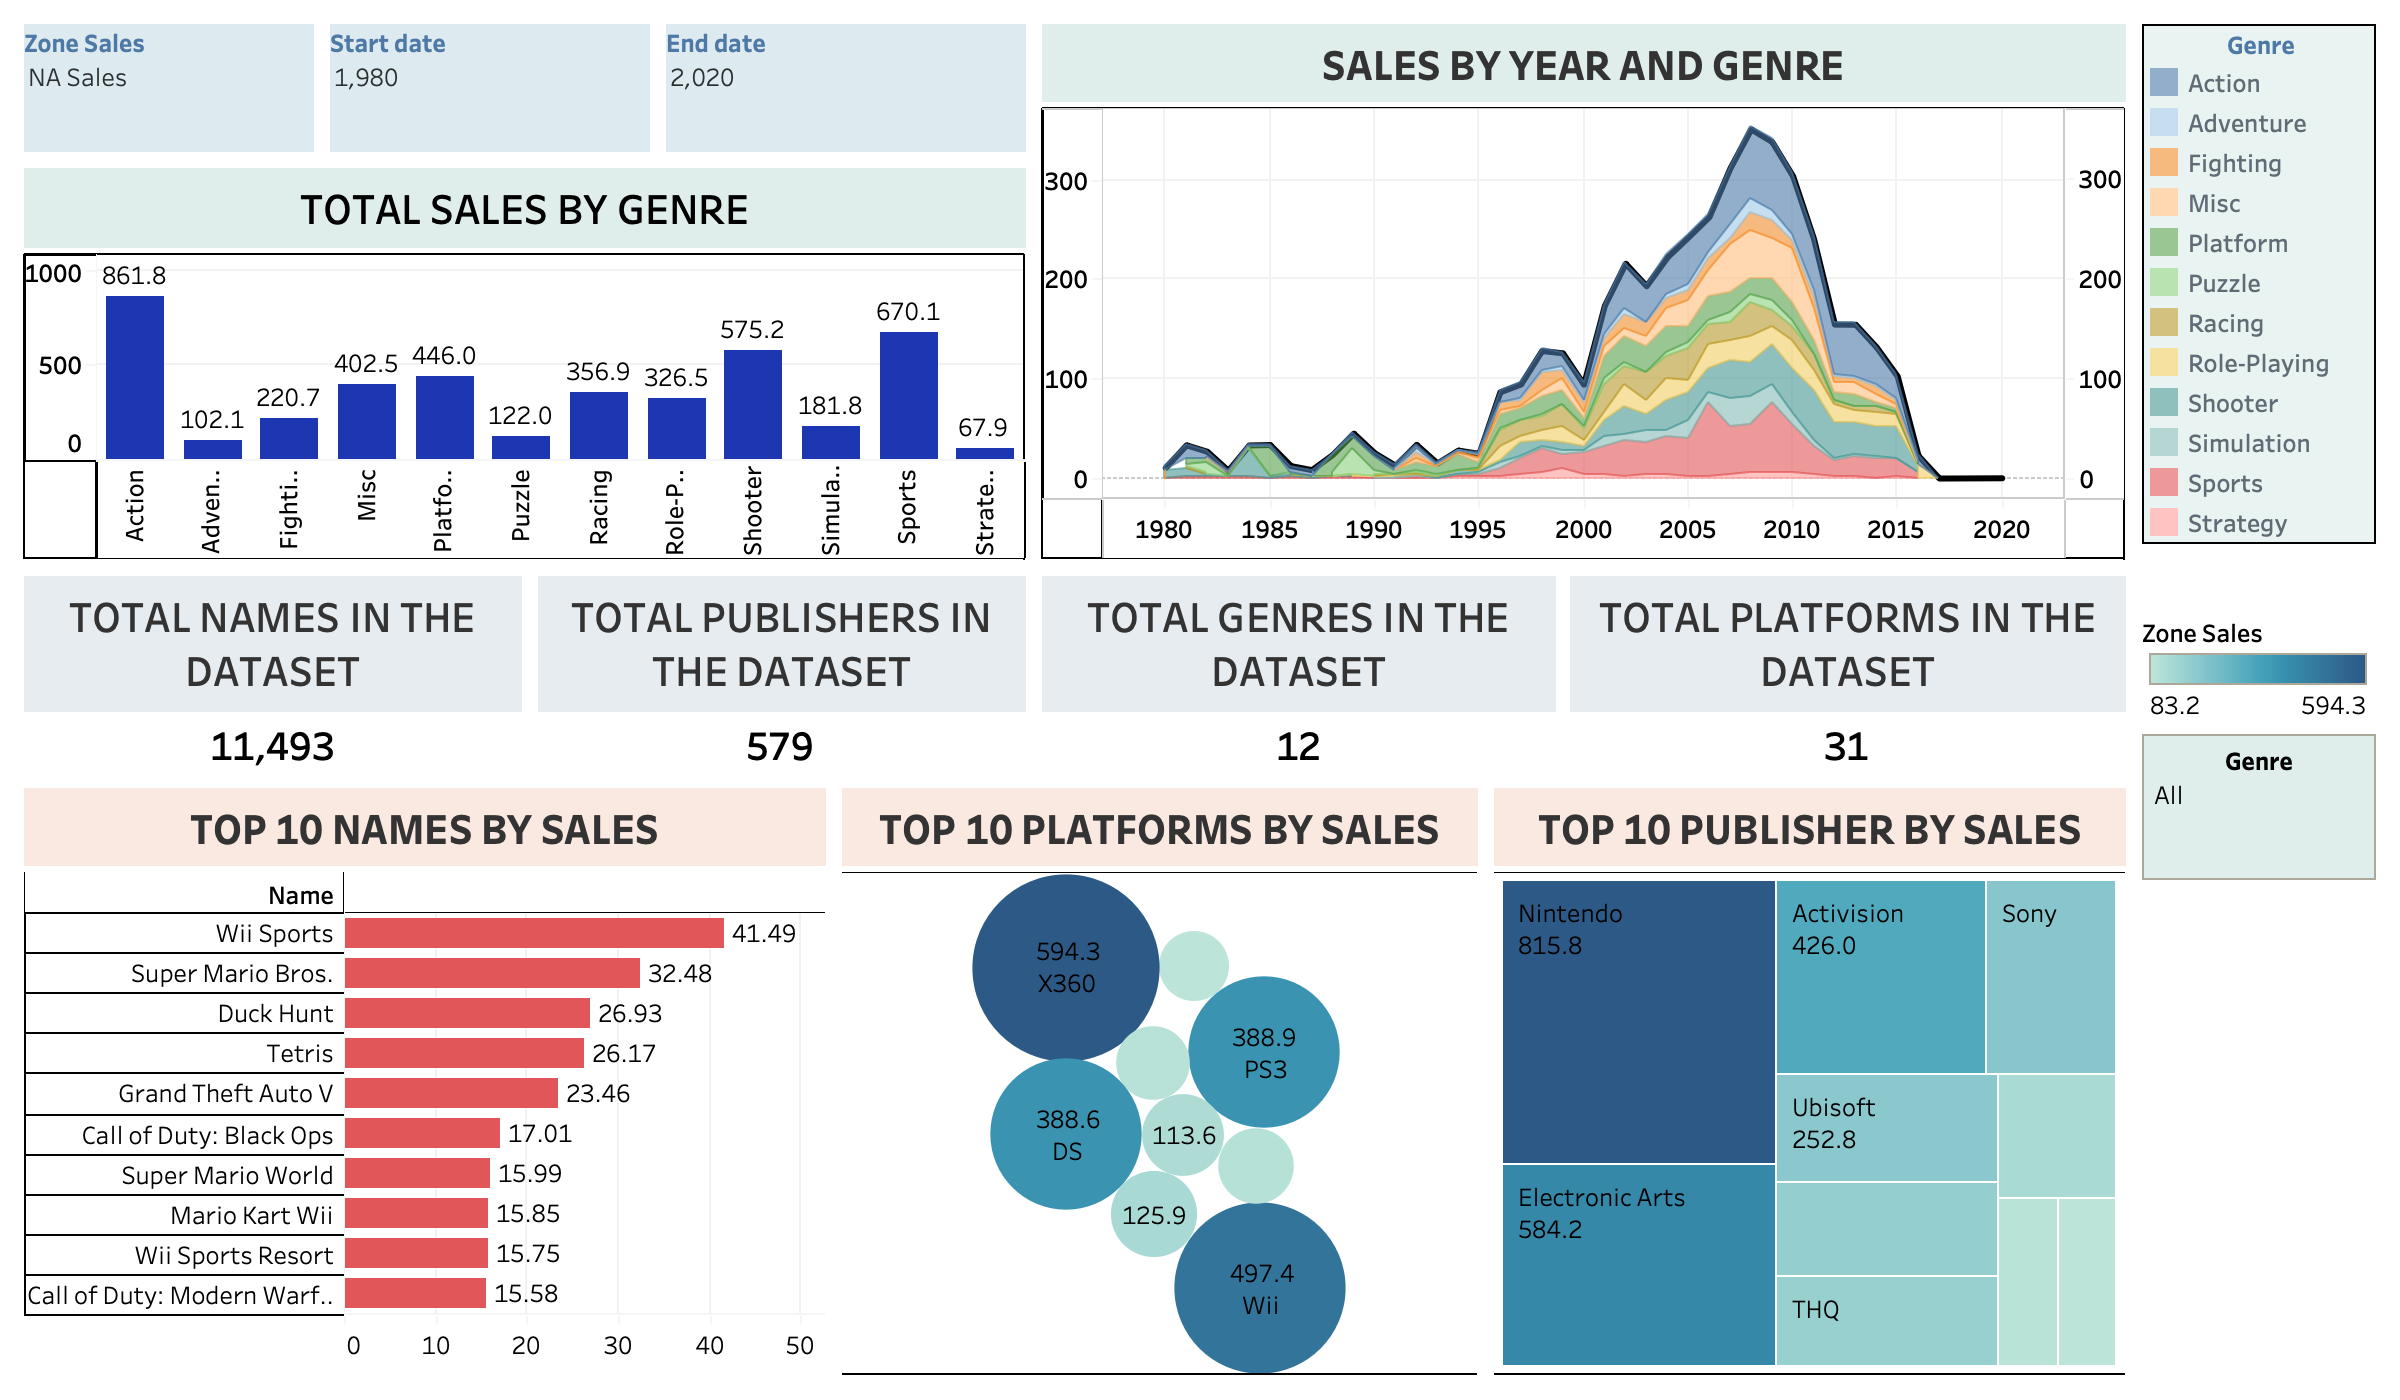

What the dashboard file says about the page in this screenshot:
{"tool":"tableau","page":{"name":"Dashboard 1","canvas":[1200,700],"ordinal":0},"visuals":[{"type":"parameter","param":"[Parameters].[Parameter 1]","box":[8,8,147.5,72.4]},{"type":"parameter","param":"[Parameters].[Parameter 2]","box":[155.5,8,162.5,72.4]},{"type":"parameter","param":"[Parameters].[Parameter 3]","box":[318,8,181.9,72.4]},{"type":"worksheet","title":"SALES BY YEAR AND GENRE","mark":"Automatic","rows":["Calculation_1280851885076258816","Calculation_1280851885076258816"],"cols":["Year"],"box":[499.9,8,532.1,276.3]},{"type":"legend","title":"SALES BY YEAR AND GENRE","param":"[federated.1wr7d7p036etyo136xizv191g1p0].[none:Genre:nk]","box":[1032,8,160,292]},{"type":"worksheet","title":"TOTAL SALES BY GENRE","mark":"Automatic","rows":["Calculation_1280851885076258816"],"cols":["Genre"],"box":[8,80.4,491.9,203.9]},{"type":"worksheet","title":"TOTAL NAMES IN THE DATASET","mark":"Automatic","box":[8,284.3,248.6,105.9]},{"type":"worksheet","title":"TOTAL PUBLISHERS IN THE DATASET","mark":"Automatic","box":[256.6,284.3,243.3,105.9]},{"type":"worksheet","title":"TOTAL GENRES IN THE DATASET","mark":"Automatic","box":[499.9,284.3,256,105.9]},{"type":"worksheet","title":"TOTAL PLATFORMS IN THE DATASET ","mark":"Automatic","box":[755.9,284.3,276.1,105.9]},{"type":"legend","title":"TOP 10 PLATFORMS BY SALES","param":"[federated.1wr7d7p036etyo136xizv191g1p0].[sum:Calculation_1280851885076258816:qk","box":[1032,300,160,63]},{"type":"filter","title":"SALES BY YEAR AND GENRE","param":"[federated.1wr7d7p036etyo136xizv191g1p0].[none:Genre:nk]","box":[1032,363,160,130]},{"type":"worksheet","title":"TOP 10 NAMES BY SALES","mark":"Automatic","rows":["Name"],"cols":["Calculation_1280851885076258816"],"box":[8,390.1,395.3,301.9]},{"type":"worksheet","title":"TOP 10 PLATFORMS BY SALES","mark":"Circle","box":[403.3,390.1,315.2,301.9]},{"type":"worksheet","title":"TOP 10 PUBLISHER BY SALES","mark":"Automatic","box":[718.5,390.1,313.5,301.9]}]}

Visuals, with their boxes in screenshot pixels (x1, y1, x2, y2), scaled from the page's 1200x700 canvas onto the 2400x1400 screenshot:
parameter: bbox=(16, 16, 311, 161)
parameter: bbox=(311, 16, 636, 161)
parameter: bbox=(636, 16, 1000, 161)
"SALES BY YEAR AND GENRE" worksheet: bbox=(1000, 16, 2064, 569)
"SALES BY YEAR AND GENRE" legend: bbox=(2064, 16, 2384, 600)
"TOTAL SALES BY GENRE" worksheet: bbox=(16, 161, 1000, 569)
"TOTAL NAMES IN THE DATASET" worksheet: bbox=(16, 569, 513, 780)
"TOTAL PUBLISHERS IN THE DATASET" worksheet: bbox=(513, 569, 1000, 780)
"TOTAL GENRES IN THE DATASET" worksheet: bbox=(1000, 569, 1512, 780)
"TOTAL PLATFORMS IN THE DATASET " worksheet: bbox=(1512, 569, 2064, 780)
"TOP 10 PLATFORMS BY SALES" legend: bbox=(2064, 600, 2384, 726)
"SALES BY YEAR AND GENRE" filter: bbox=(2064, 726, 2384, 986)
"TOP 10 NAMES BY SALES" worksheet: bbox=(16, 780, 807, 1384)
"TOP 10 PLATFORMS BY SALES" worksheet (Circle marks): bbox=(807, 780, 1437, 1384)
"TOP 10 PUBLISHER BY SALES" worksheet: bbox=(1437, 780, 2064, 1384)
